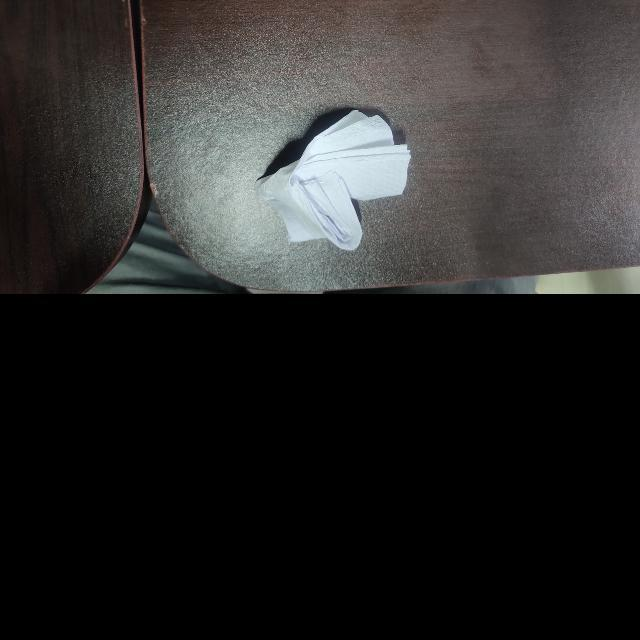kitchen paper: (250, 103, 418, 255)
